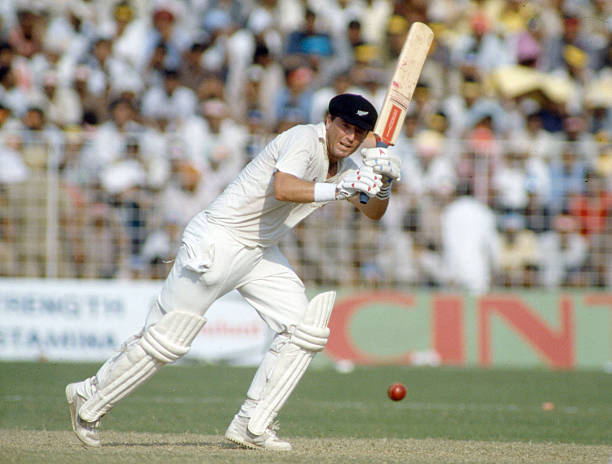bottom left: (406, 16, 422, 35)
bottom right: (428, 28, 445, 45)
top left: (367, 119, 384, 139)
top right: (387, 133, 403, 151)
